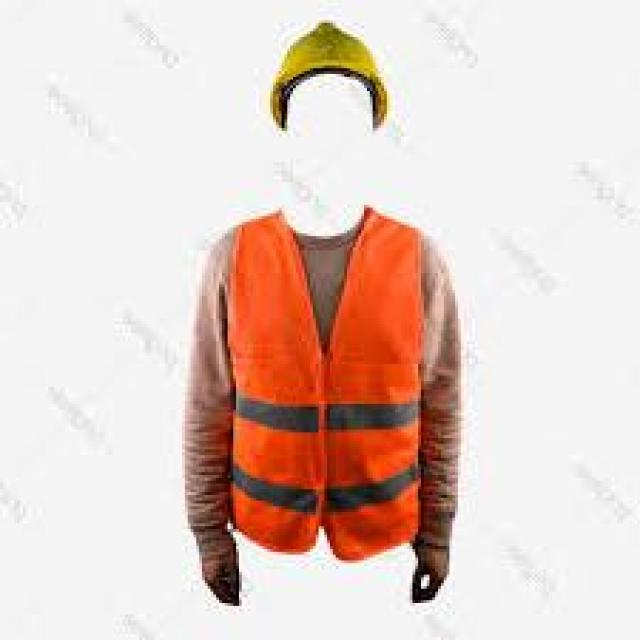Reflective-Jacket: (205, 193, 455, 558)
Safety-Helmet: (250, 12, 421, 136)
